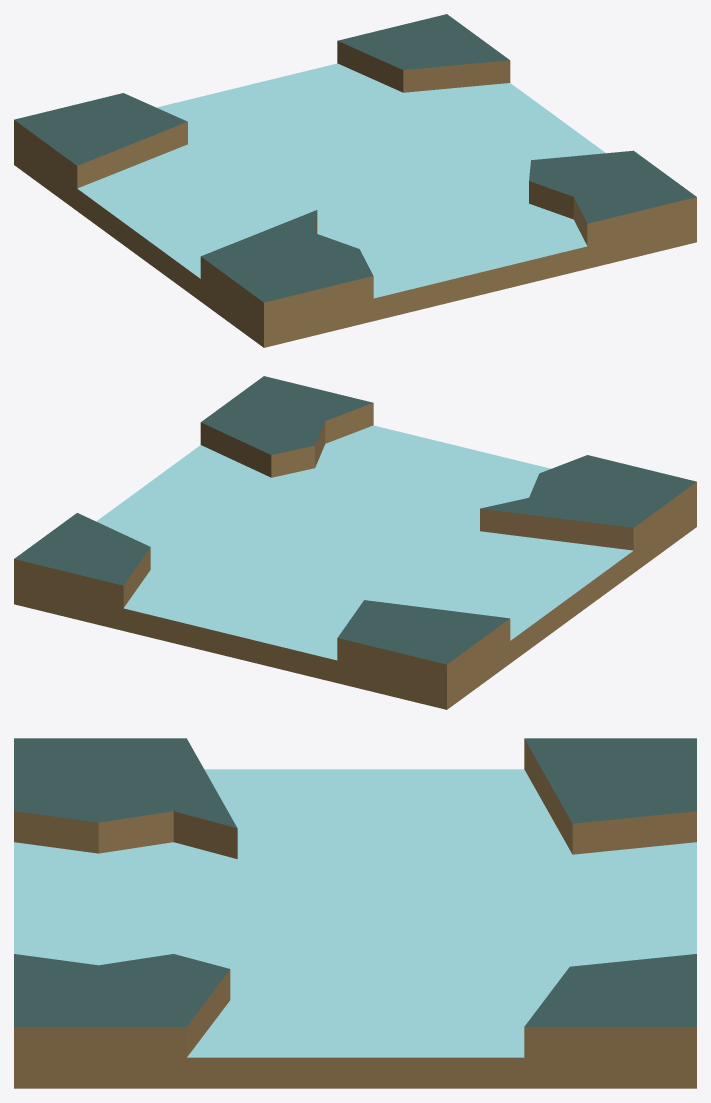
File: naturePack_147.fbx
3 renders of one model, top to bottom at view 1: azimuth 30°, elevation 25°; view 2: azimuth 150°, elevation 25°; view 3: azimuth 270°, elevation 25°, orthographic. The views are drawn at different scales.
Visible parts, largest first — view 1: Mesh1_Plate_River_Dirt Model; view 2: Mesh1_Plate_River_Dirt Model; view 3: Mesh1_Plate_River_Dirt Model.
Part boxes in pixels (x1=…): Mesh1_Plate_River_Dirt Model: x1=14, y1=14, x2=696, y2=347; Mesh1_Plate_River_Dirt Model: x1=14, y1=376, x2=696, y2=709; Mesh1_Plate_River_Dirt Model: x1=14, y1=738, x2=696, y2=1088.
Size of the model in its own units: 3 by 0.3 by 3.
